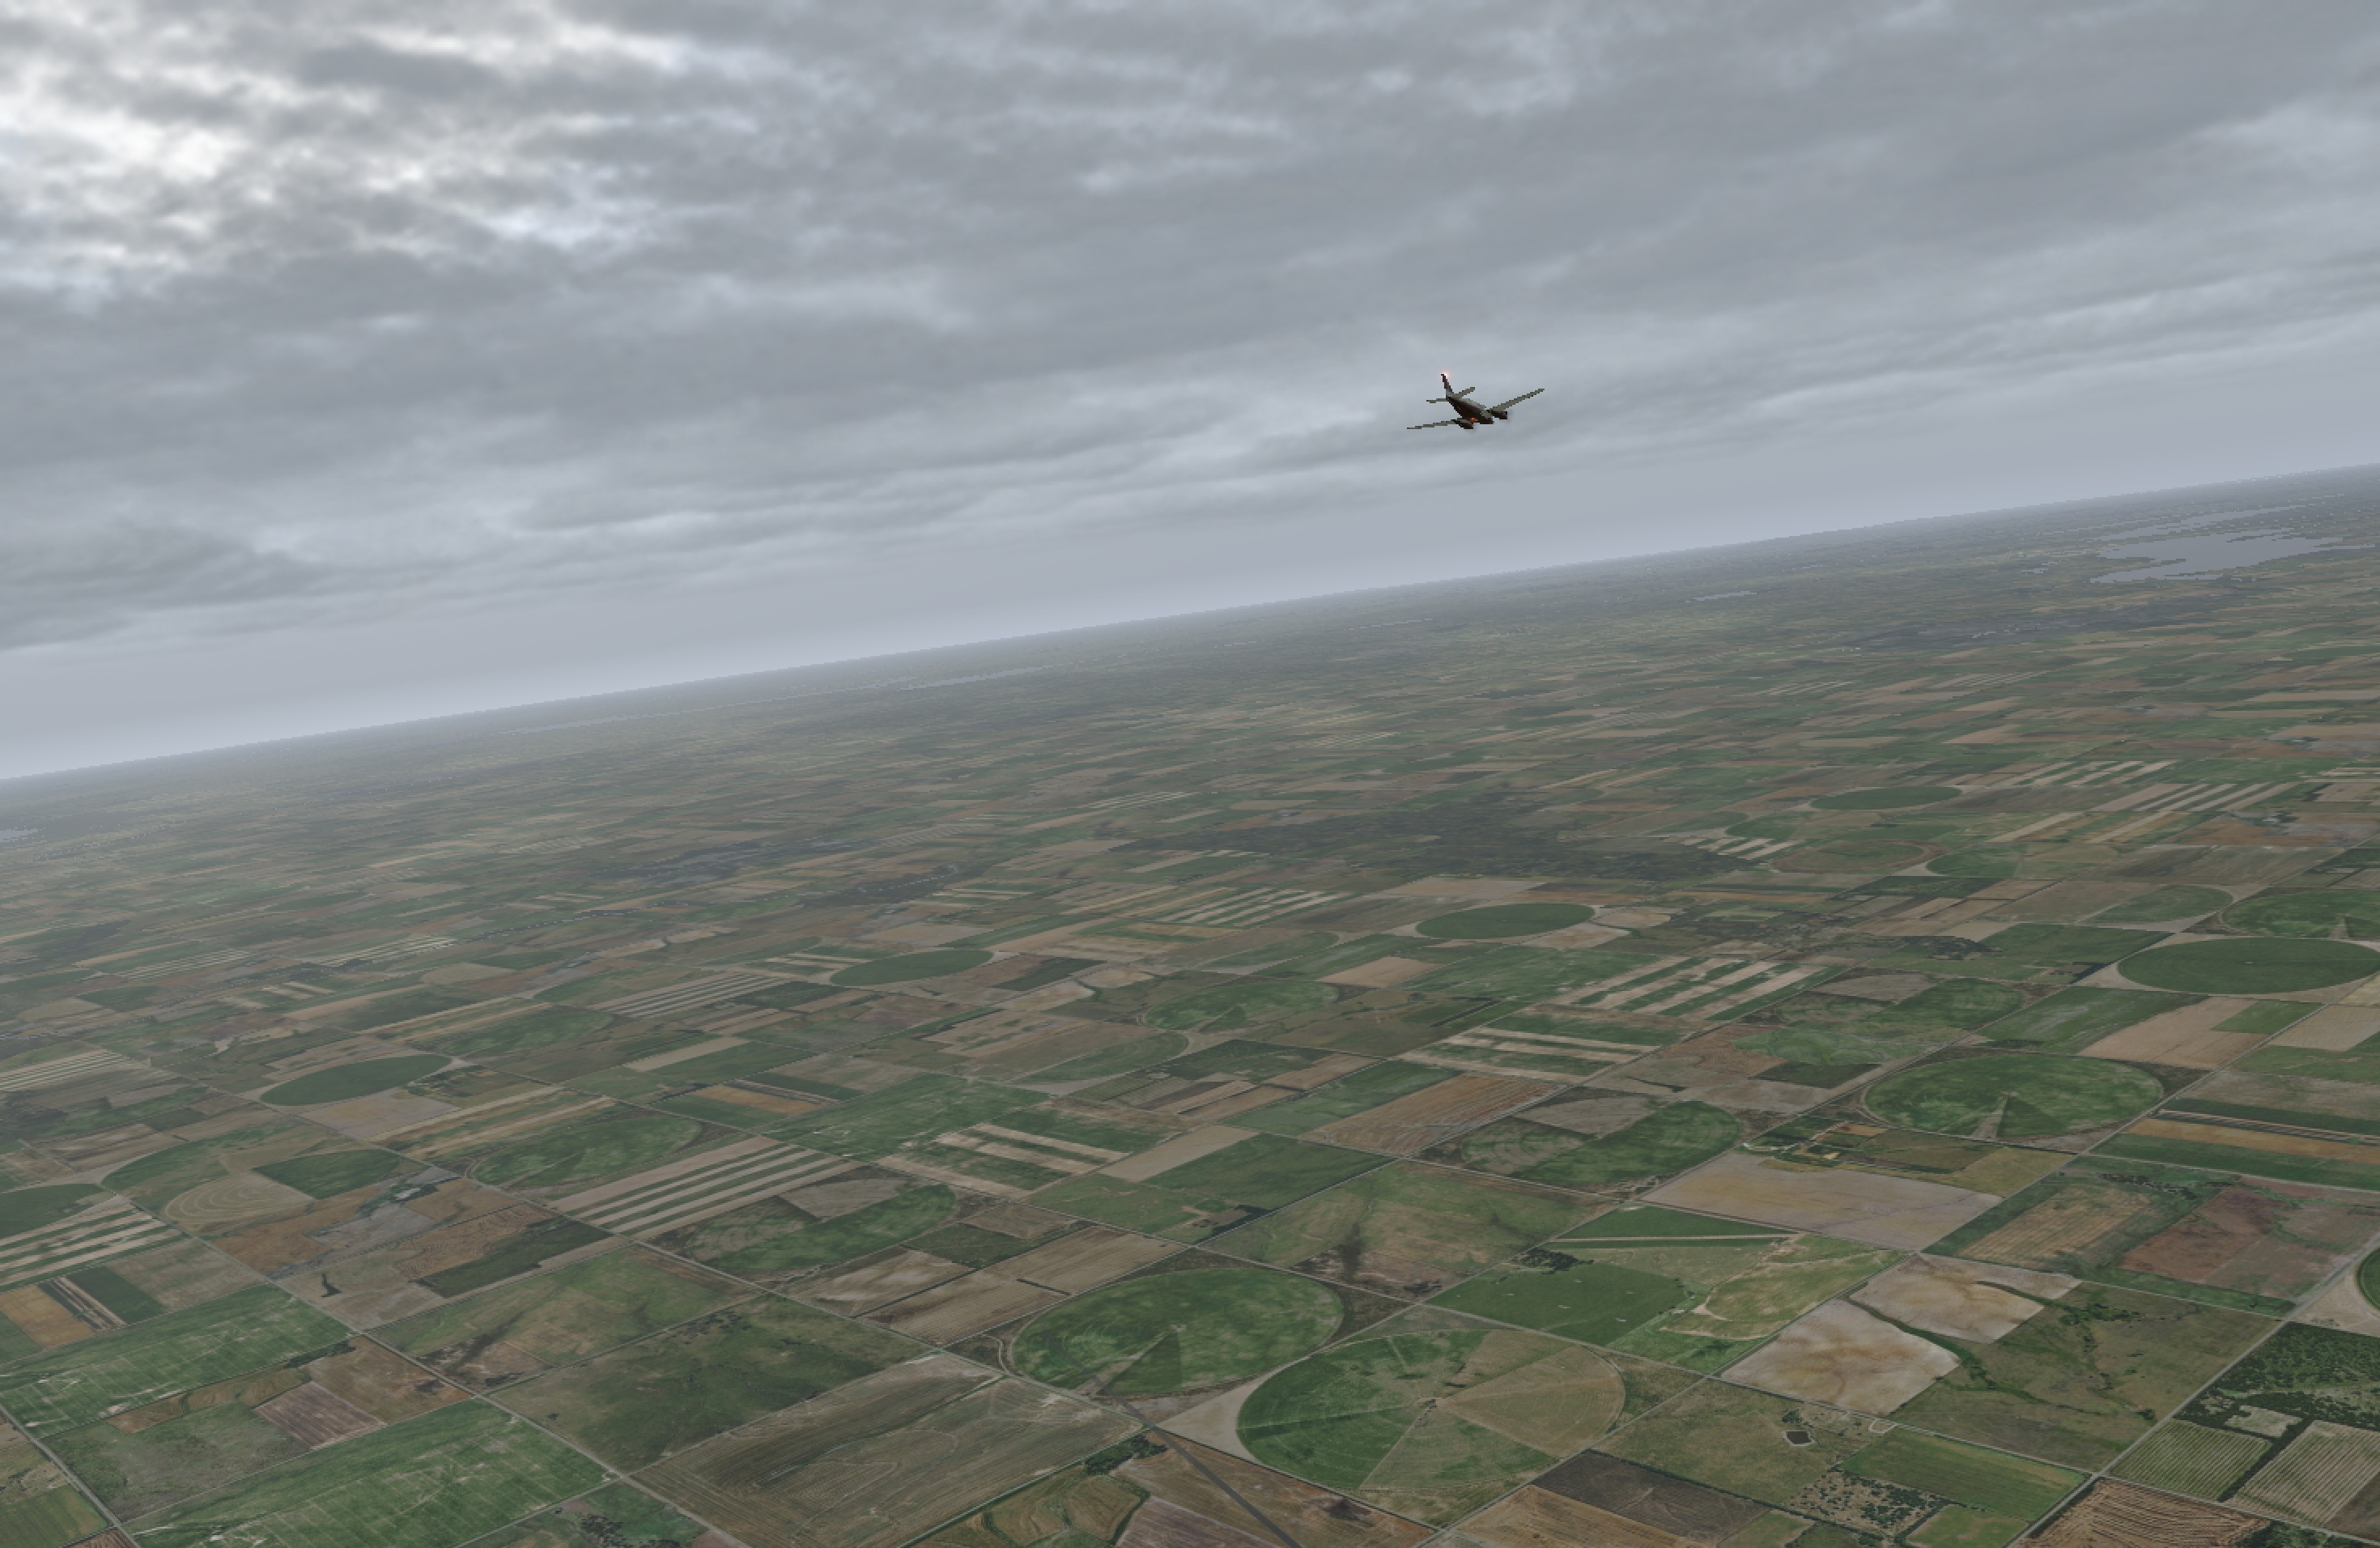aircraft: (1403, 392, 1553, 448)
